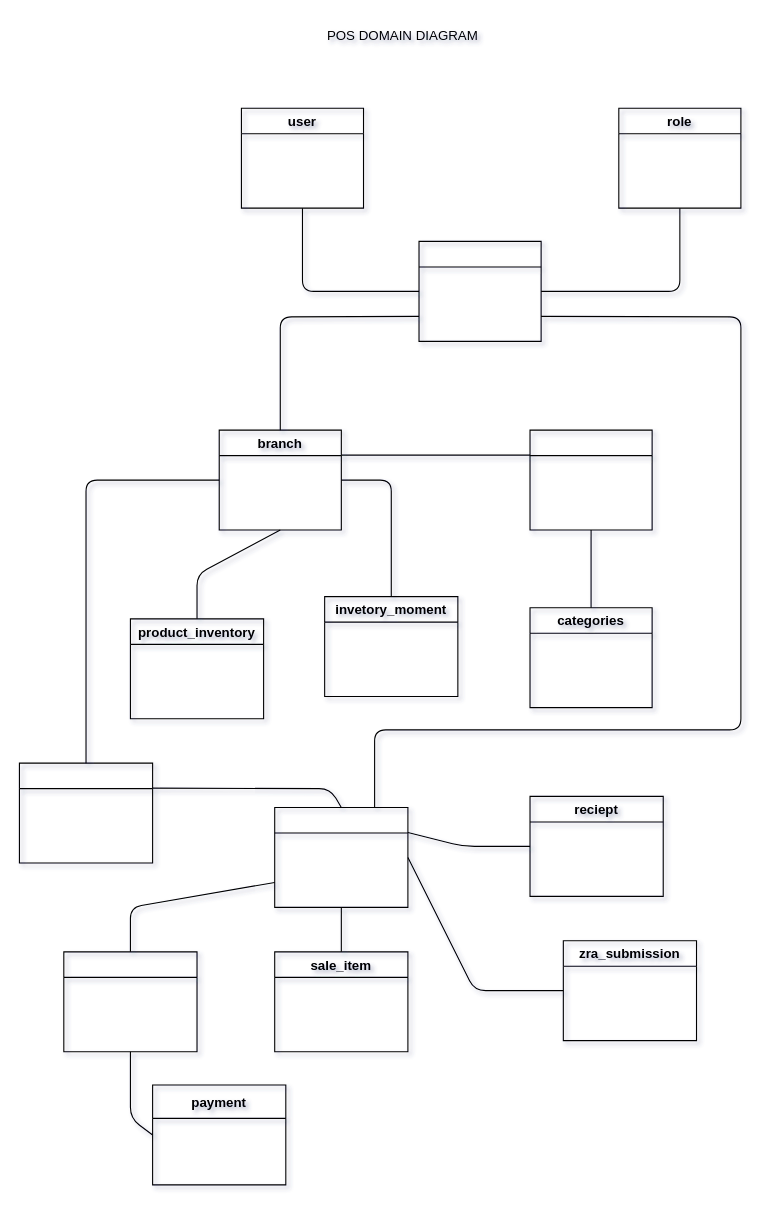
Some shapes in this 768 by 1211 pixel diagram are drawn without their labels. The box of each missing label's shape, as (x1, y1, x2, y2) in pixels:
customer: (18, 762, 153, 863)
payment_method: (63, 951, 197, 1052)
product: (529, 429, 652, 530)
sale: (274, 806, 408, 907)
user_role: (418, 240, 541, 341)
